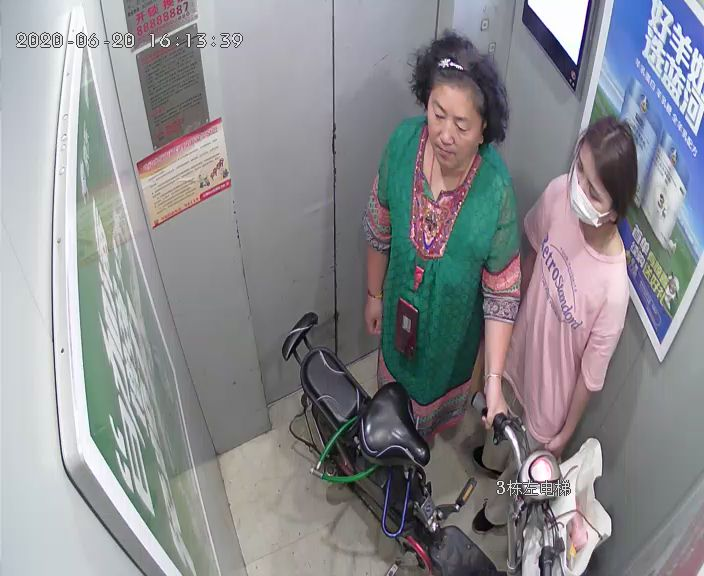Electric-bicycle: (282, 310, 562, 574)
